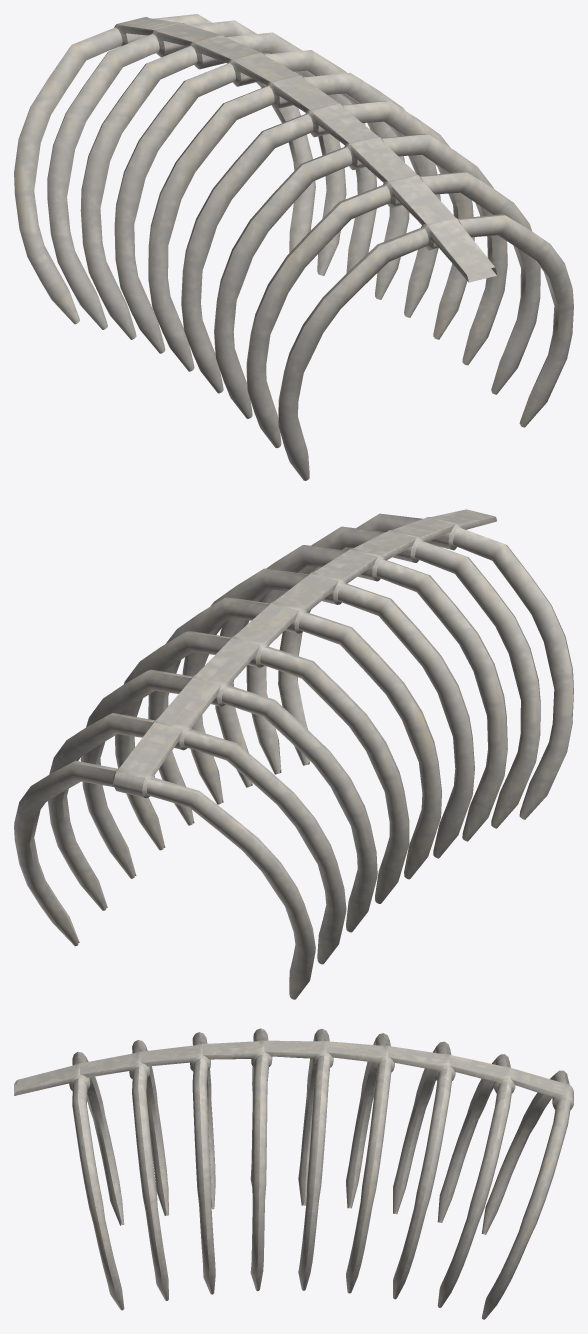
Rendered from Giant monster rib cage.fbx.
3 views of the same model, one above another, from view 1: azimuth 30°, elevation 25°; view 2: azimuth 150°, elevation 25°; view 3: azimuth 270°, elevation 25° (orthographic). The views are drawn at different scales.
Parts seen in each view (by area): view 1: Ribcage; view 2: Ribcage; view 3: Ribcage.
Boxes of the visible parts, x1,y1,x2,y2 form: Ribcage: (14, 14, 573, 480); Ribcage: (14, 509, 573, 999); Ribcage: (14, 1028, 573, 1319).
Bounding box in the file's own units: 2377 × 2275 × 4993.
1 material, 1 textured.
